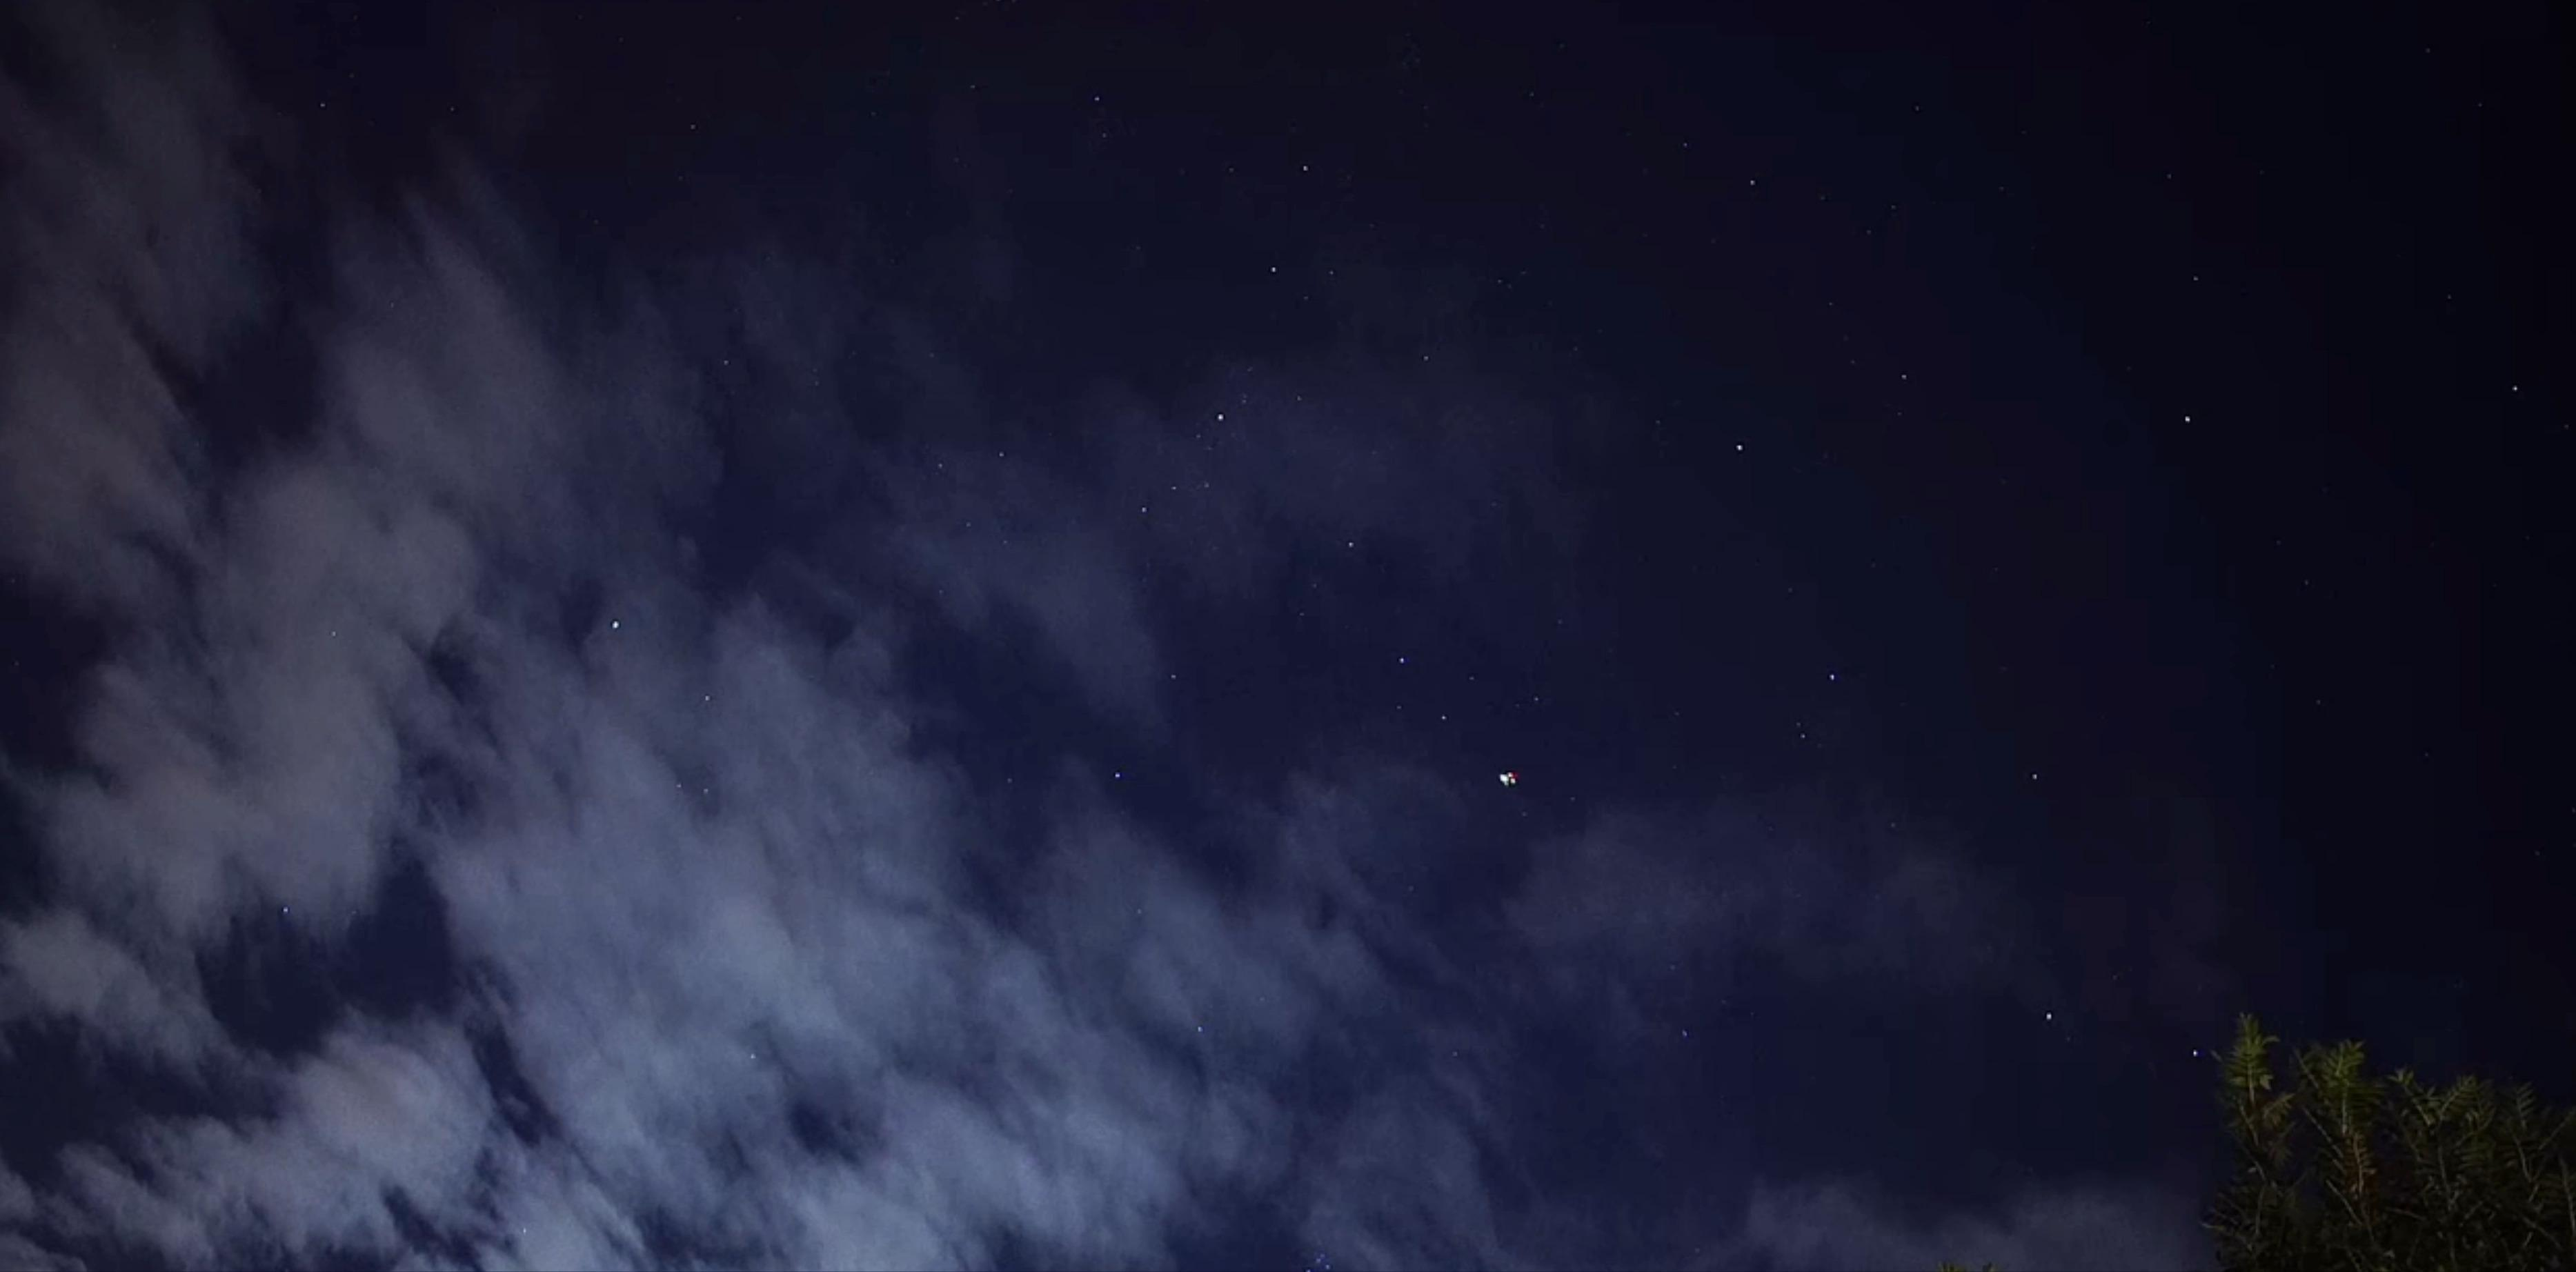Plane: (1475, 759, 1546, 795)
